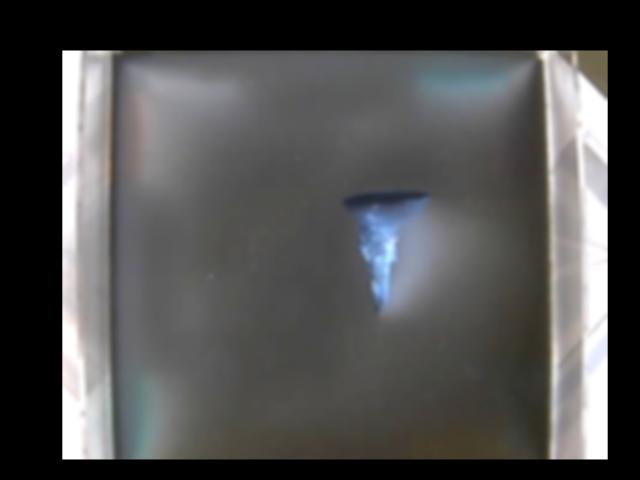Mooli: (341, 189, 427, 312)
